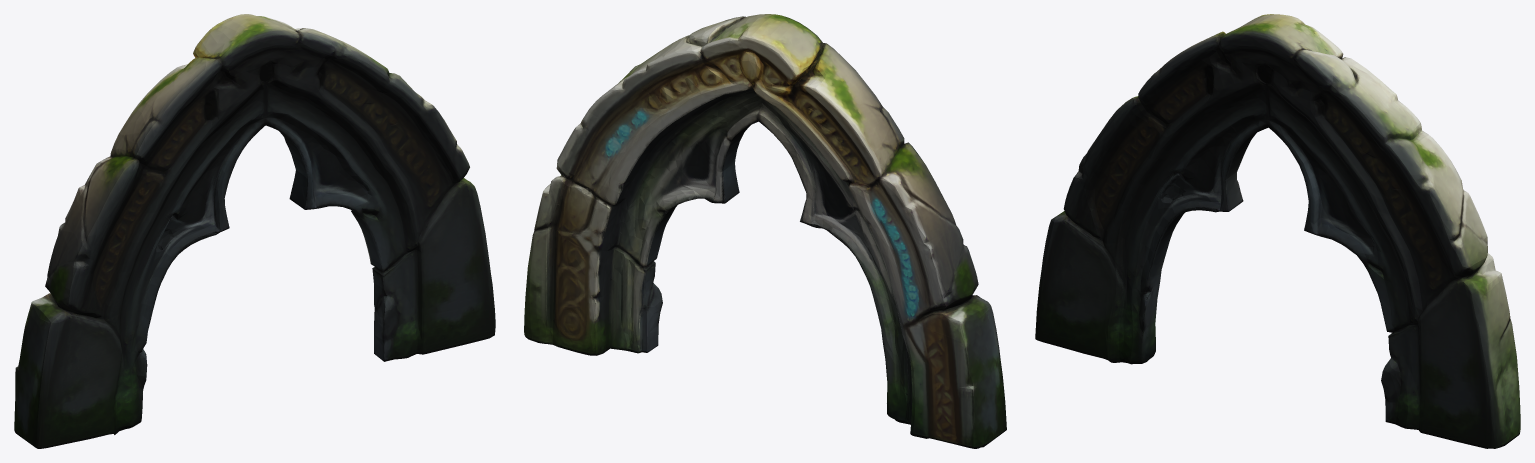
Rendered from arch_fragment.glb.
3 renders of one model, left to right at view 1: azimuth 30°, elevation 25°; view 2: azimuth 150°, elevation 25°; view 3: azimuth 330°, elevation 25°, orthographic.
Visible parts, largest first — view 1: world; view 2: world; view 3: world.
Part boxes in pixels (x1,y1,x2,y2): world: (14, 14, 495, 448); world: (524, 14, 1006, 448); world: (1035, 14, 1520, 448).
Bounding box in the file's own units: 1 × 0.7623 × 0.117.
Materials: 1 (1 with a texture image).
